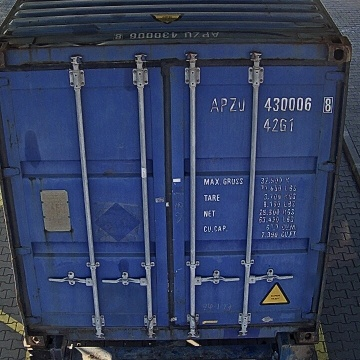serial_id: (208, 97, 334, 113)
